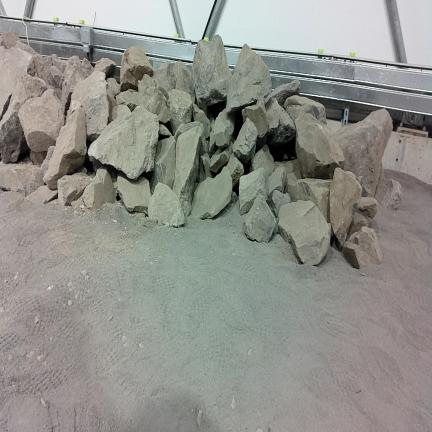Rock: (0, 75, 61, 163), (88, 107, 159, 181), (338, 109, 392, 196), (227, 44, 272, 137), (43, 108, 87, 190), (193, 35, 231, 123), (279, 201, 330, 265), (296, 114, 344, 178), (18, 89, 64, 152), (72, 72, 109, 140), (0, 48, 35, 119), (173, 127, 201, 215), (330, 168, 361, 245), (192, 167, 232, 219), (61, 56, 90, 114), (343, 227, 382, 268), (148, 183, 185, 226), (244, 194, 277, 242), (267, 106, 295, 161), (138, 75, 170, 122), (296, 179, 330, 222), (0, 162, 43, 196), (121, 47, 153, 91), (15, 41, 49, 82), (242, 99, 269, 148), (83, 168, 115, 209), (239, 168, 267, 214), (118, 175, 151, 212), (284, 96, 326, 124), (153, 136, 175, 188), (210, 109, 234, 155), (58, 173, 91, 205), (233, 119, 257, 163), (376, 168, 401, 210), (169, 89, 192, 133), (227, 153, 251, 194), (265, 80, 300, 106), (173, 61, 194, 101), (252, 145, 274, 177), (153, 62, 175, 92), (193, 104, 211, 138), (27, 185, 57, 205), (268, 190, 291, 216), (265, 98, 281, 134), (347, 212, 369, 238), (174, 122, 203, 141), (211, 146, 232, 172), (285, 170, 301, 201), (268, 167, 286, 194), (116, 90, 139, 111), (40, 146, 54, 177), (95, 58, 116, 78), (358, 197, 377, 218), (275, 159, 299, 175), (199, 153, 211, 182), (75, 156, 94, 174), (107, 85, 116, 122), (0, 32, 19, 49), (66, 101, 82, 121), (357, 176, 372, 197), (48, 66, 62, 88), (51, 54, 67, 73), (112, 105, 130, 121), (30, 150, 46, 166), (107, 78, 120, 96), (81, 58, 94, 74), (159, 124, 172, 136), (200, 139, 209, 155), (211, 118, 214, 129)
